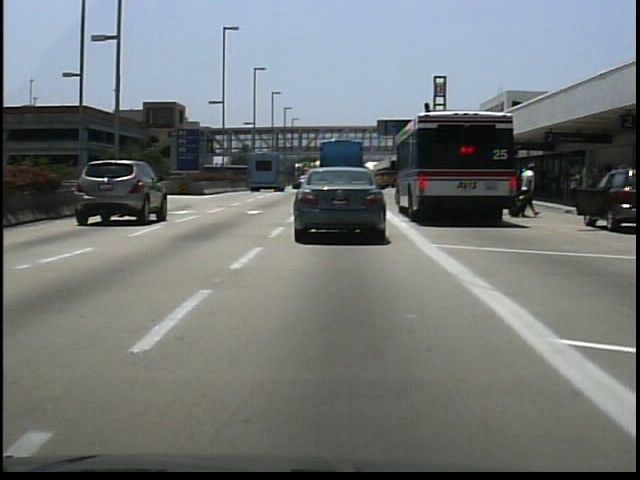person: (519, 159, 540, 221)
